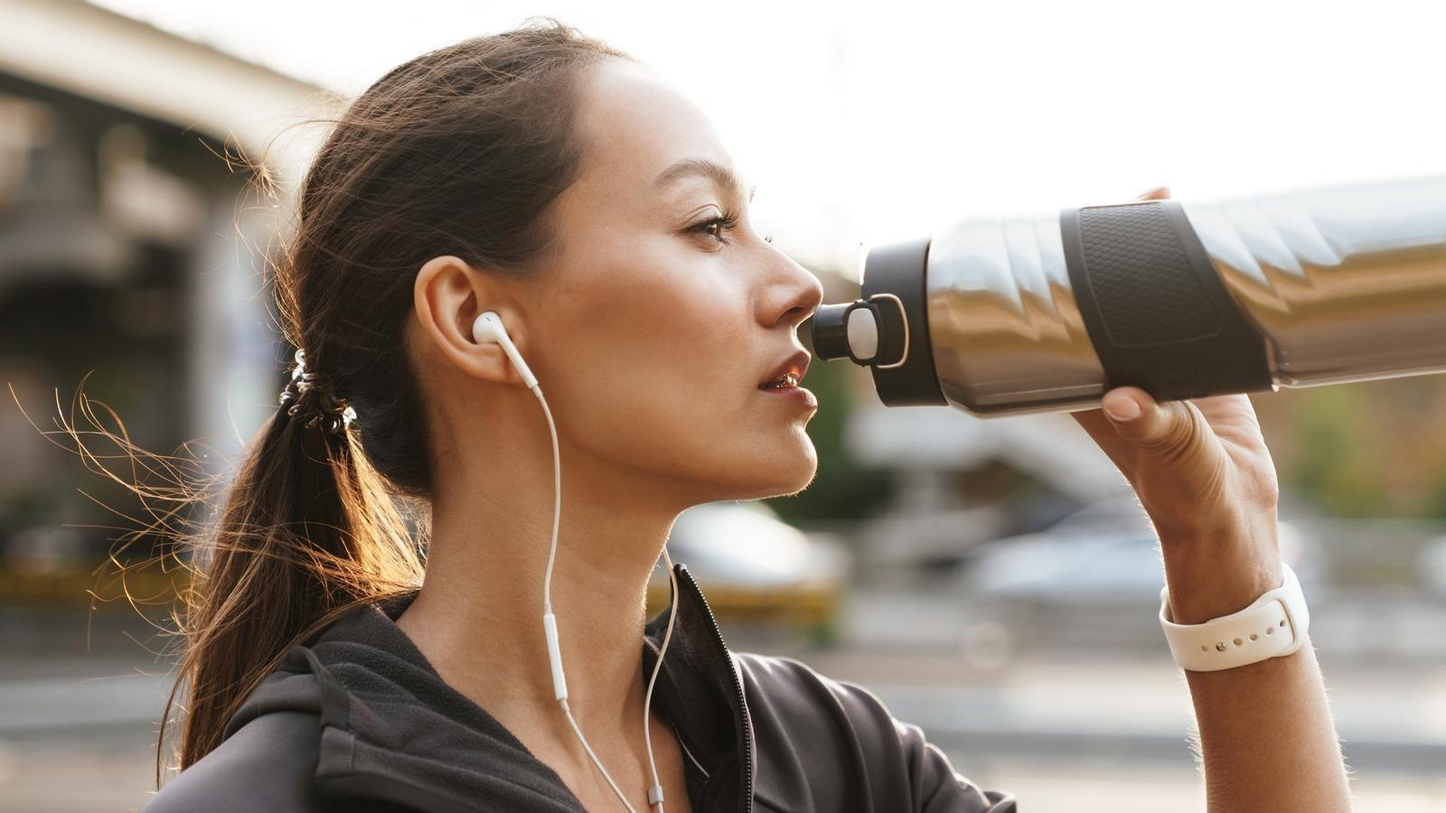gym bottle: (812, 170, 1445, 418)
